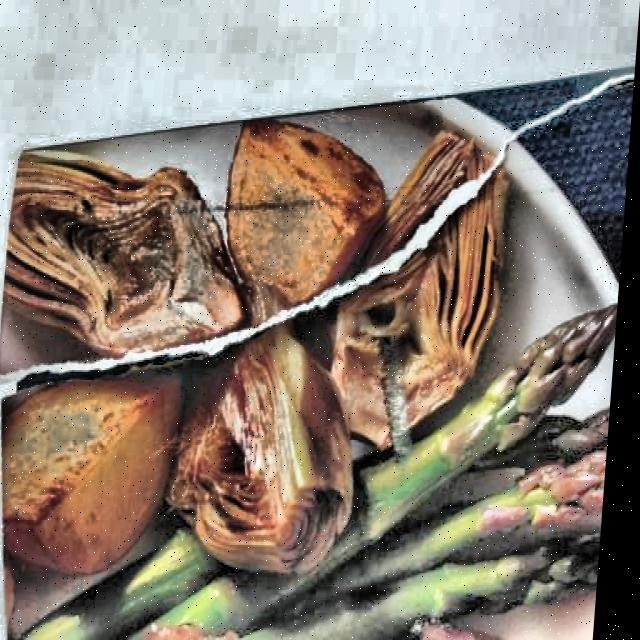paper: (0, 68, 635, 640)
